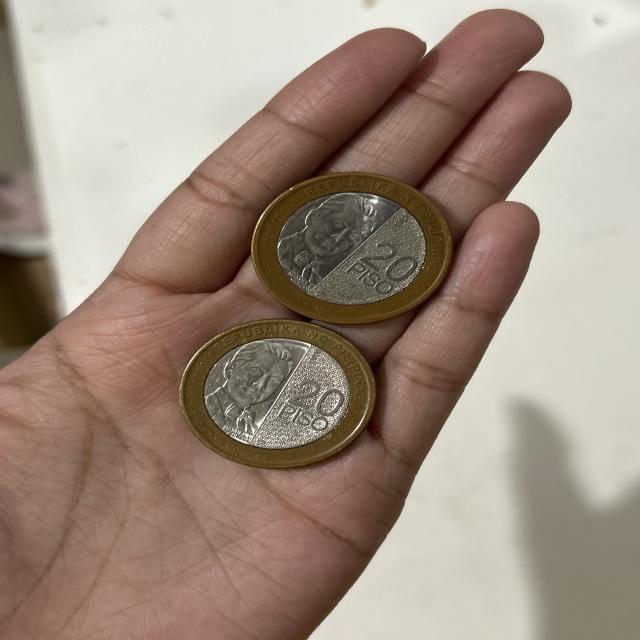20_New_Front: (348, 238, 422, 301), (277, 369, 345, 435)
